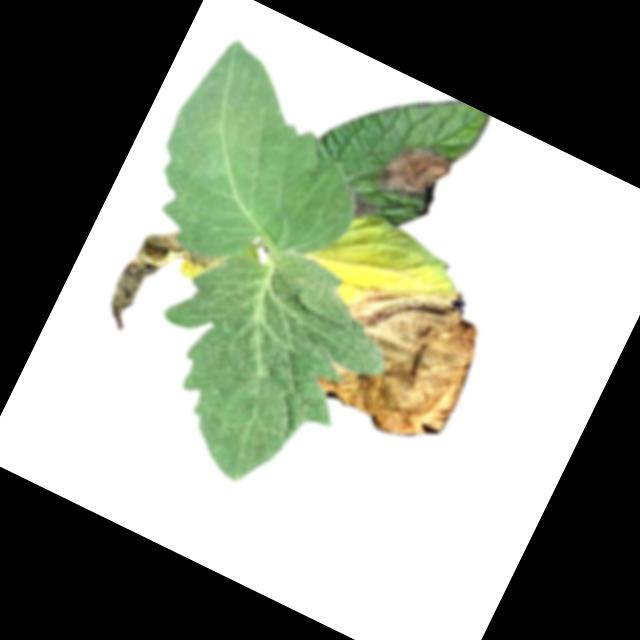Late_blight: (303, 249, 502, 457), (95, 214, 224, 358), (369, 130, 457, 216), (340, 185, 382, 227)
healthy: (110, 210, 415, 520), (128, 31, 401, 308)
